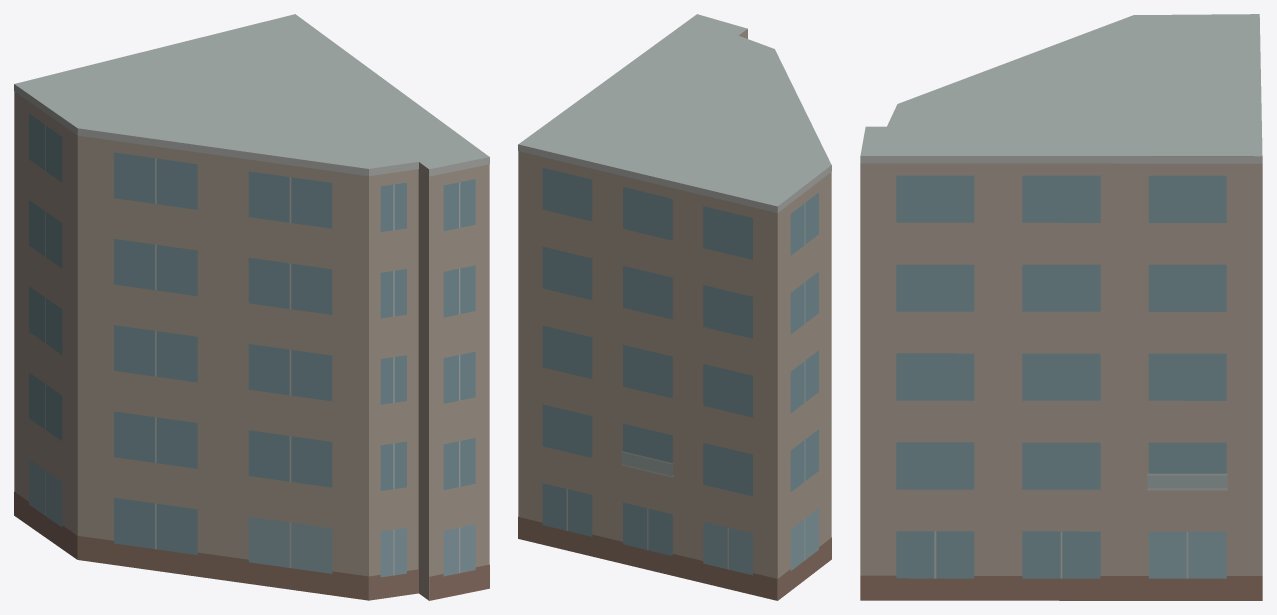
File: survey-upis-32673287.glb
3 renders of one model, left to right at view 1: azimuth 30°, elevation 25°; view 2: azimuth 150°, elevation 25°; view 3: azimuth 270°, elevation 25°, orthographic. The views are drawn at different scales.
Parts seen in each view (by area): view 1: survey-upis-32673287.tmp; view 2: survey-upis-32673287.tmp; view 3: survey-upis-32673287.tmp.
Boxes of the visible parts, x1,y1,x2,y2 form: survey-upis-32673287.tmp: (14, 14, 489, 600); survey-upis-32673287.tmp: (518, 14, 831, 600); survey-upis-32673287.tmp: (860, 14, 1262, 600).
Size of the model in its own units: 9.98 by 14.5 by 11.89.
